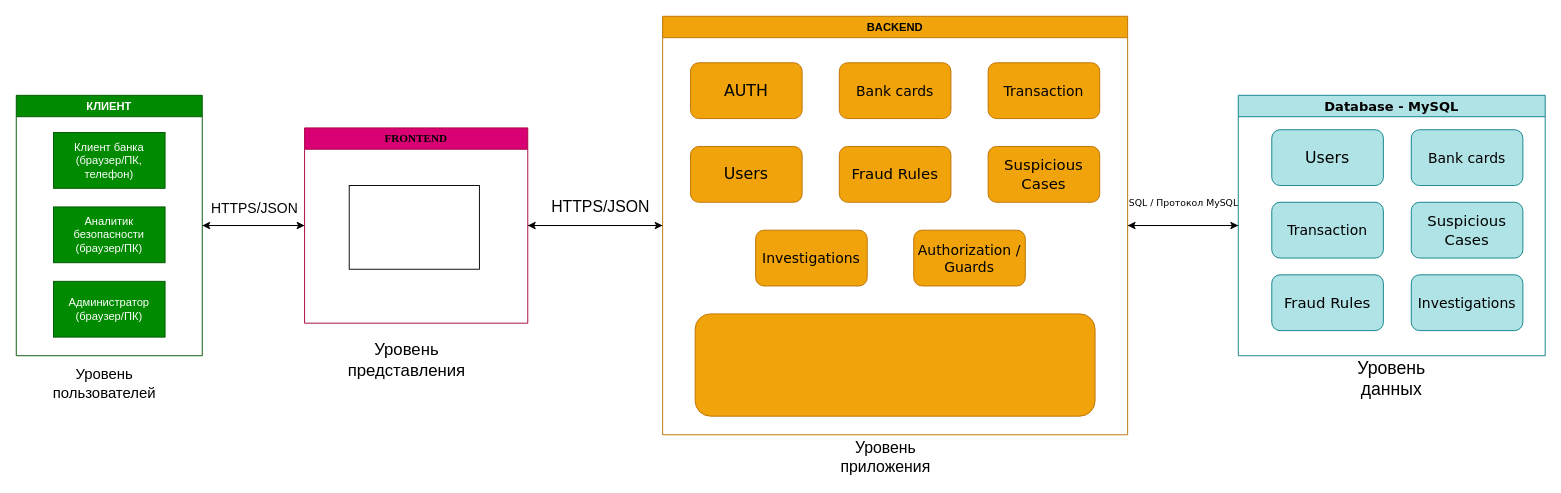
Image size: 1561x493. Some labels were removed from this diagram. Each missing label, with the centre of its shape:
HTML, CSS, Razor Views: pixel 413 227
Слои каждого модуля: Controller → Service → Data Access (ADO.NET): pixel 894 364
